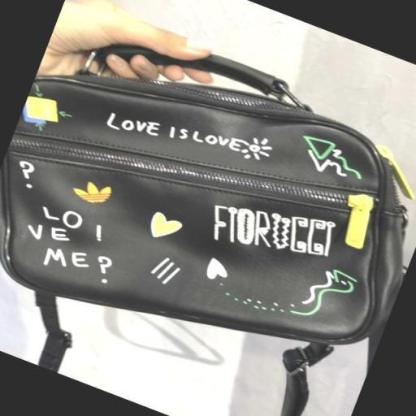bag: (1, 38, 414, 351)
